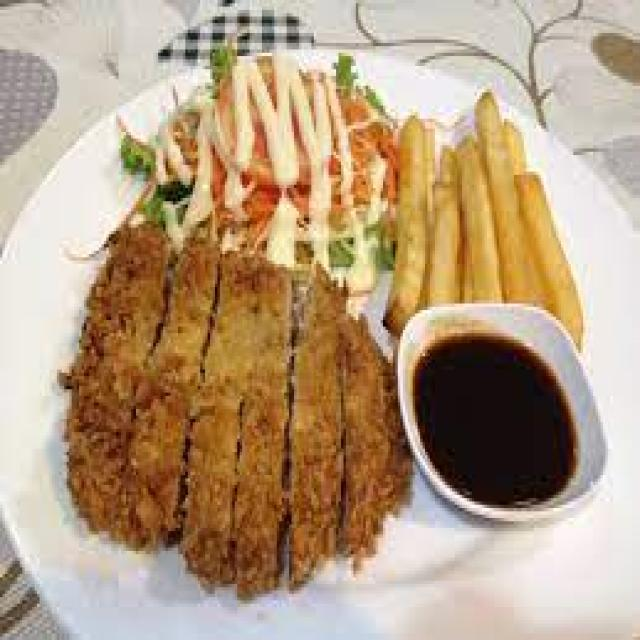Carbohydrate: (384, 88, 590, 352)
Protein: (56, 234, 413, 599)
Steak: (27, 41, 629, 605)
Vegetable: (118, 55, 406, 288)
